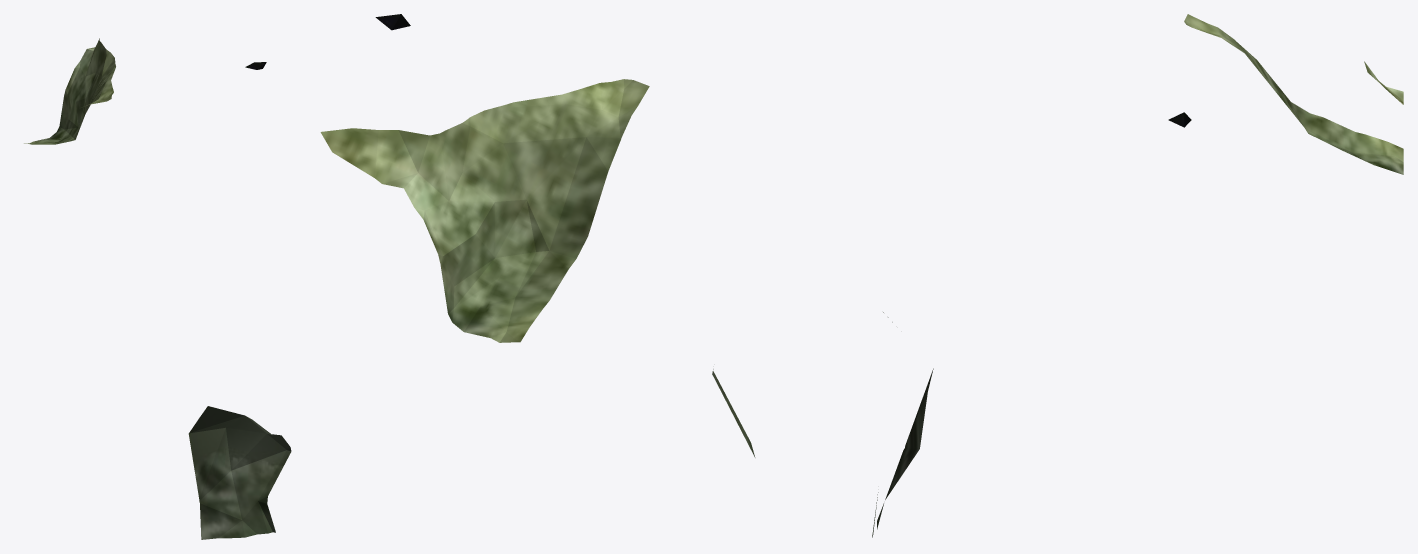
3 renders of one model, left to right at view 1: azimuth 30°, elevation 25°; view 2: azimuth 150°, elevation 25°; view 3: azimuth 270°, elevation 25°, orthographic. The views are drawn at different scales.
Size of the model in its own units: 1.47 by 2.95 by 2.95.
Materials: 1 (1 with a texture image).
